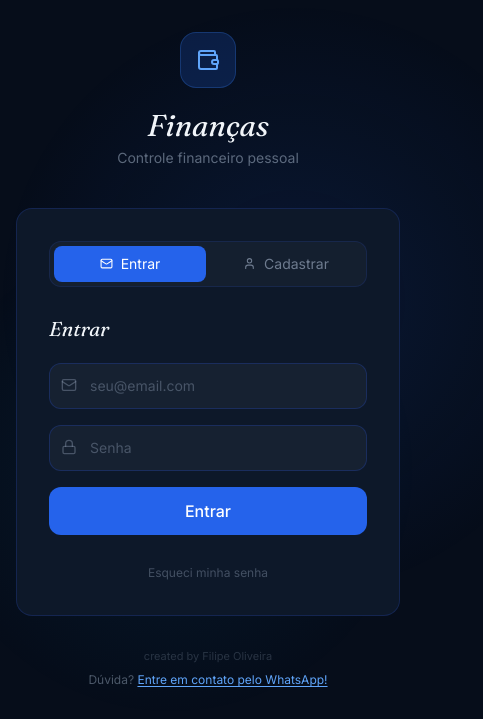
Test: Auth › login › traduz credencial inválida
Type "teste@example.com" into the field with placeholder "seu@email.com".
click(208, 386); type("teste@example.com")  # box [49,363,367,409]
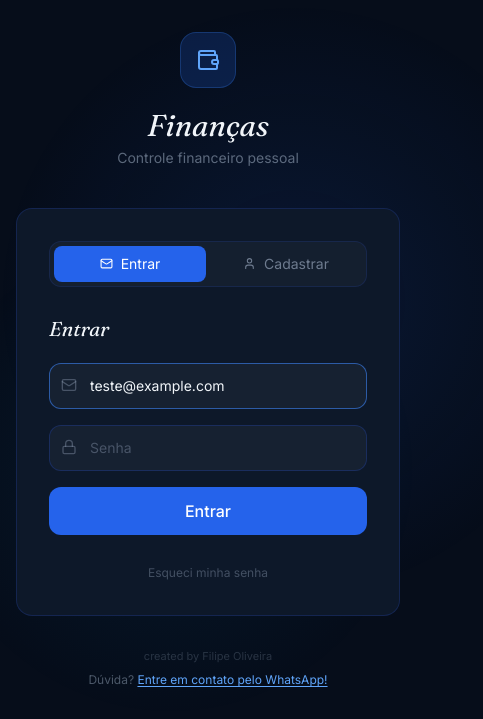
Type "errada" into the password field with placeholder "Senha".
click(208, 448); type("errada")  # box [49,425,367,471]
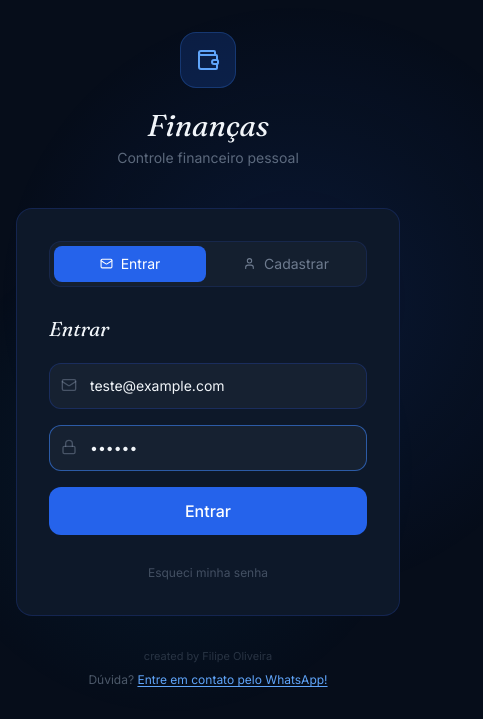
Click the 2nd button "Entrar".
click(208, 511)  # box [49,487,367,535]
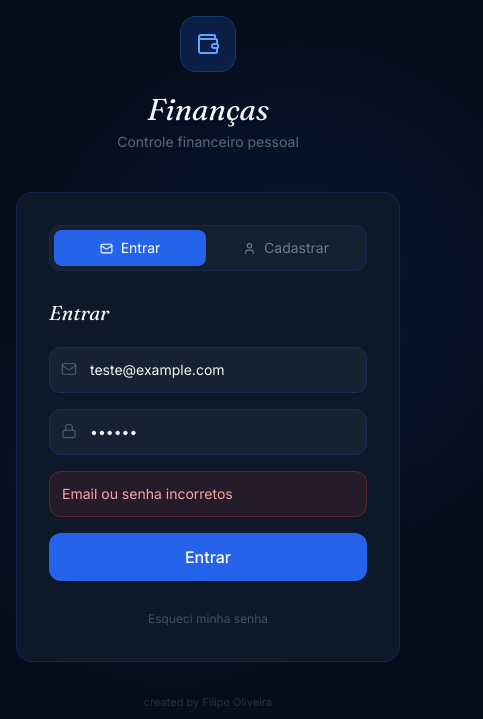
Now the text "Email ou senha incorretos" is shown, box [49,471,367,517]
